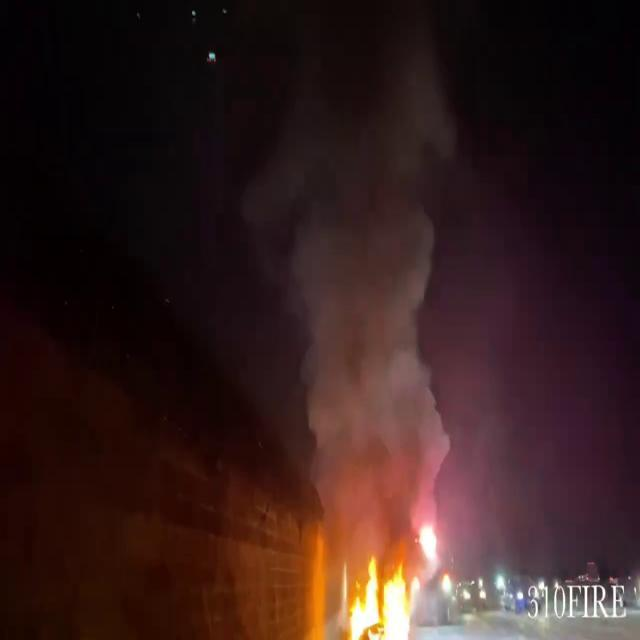Fire: (327, 554, 419, 640)
Smoke: (268, 24, 466, 552)
